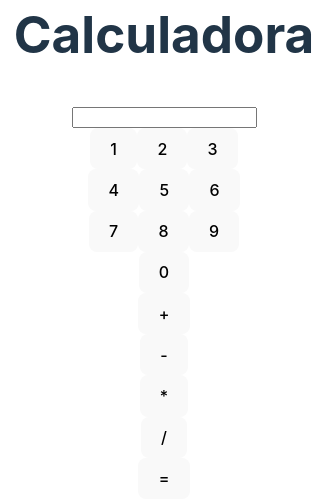
it: calculadora › debe renderizar al presionar varios numeros
Step 1. Click the button "1" → (114, 149), box [90,128,137,170]
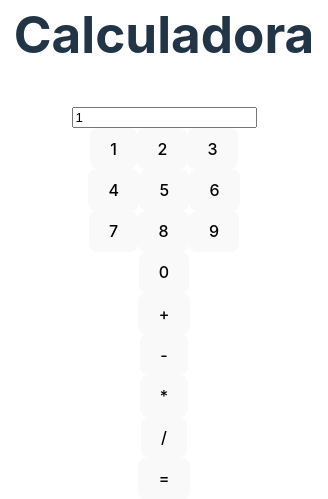
Step 2. Click the button "2" → (162, 149), box [137,128,187,170]
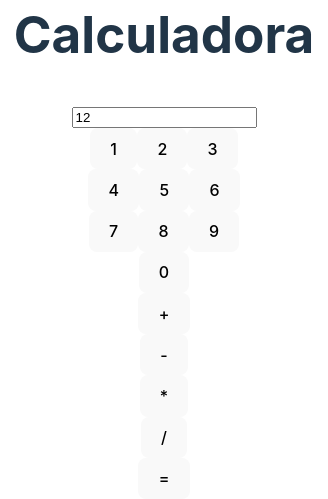
Step 3. Click the button "3" → (213, 149), box [187,128,238,170]
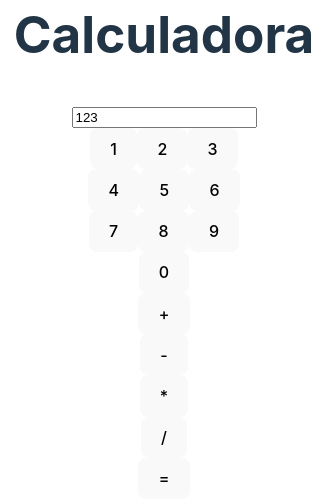
Step 4. Click the button "4" → (114, 190), box [88,170,139,211]
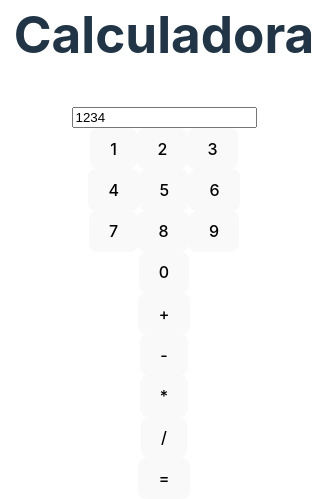
Check: the field holds "1234", box [72,107,256,128]
